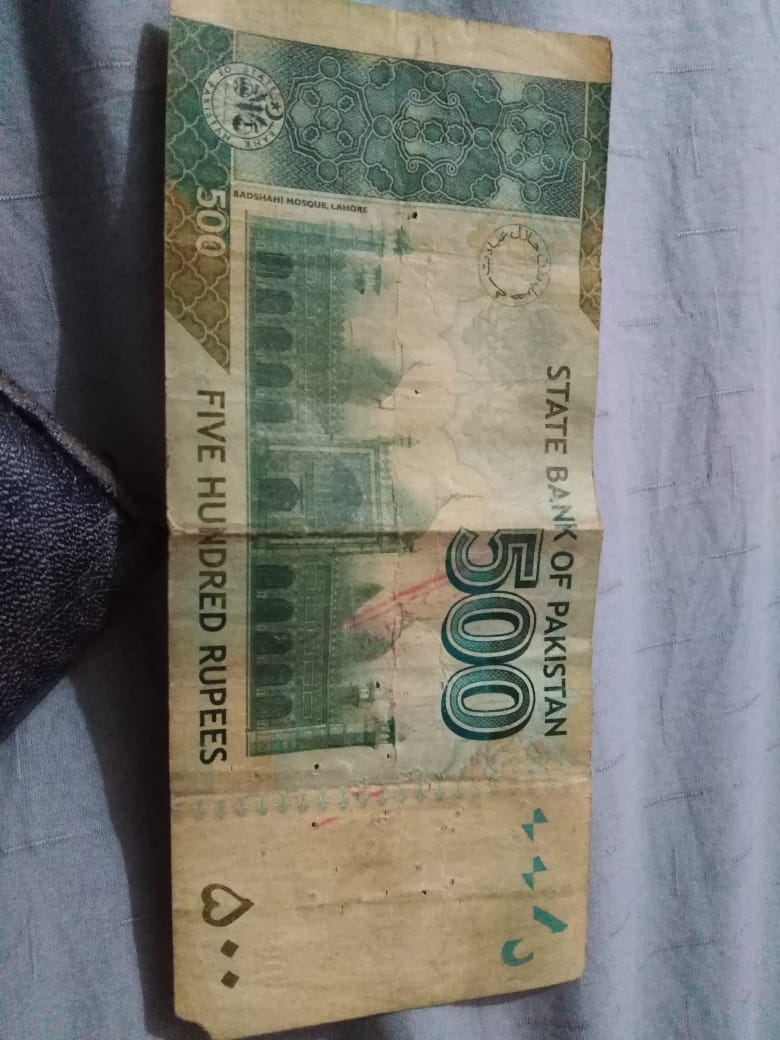500 rupee: (155, 18, 629, 1018)
